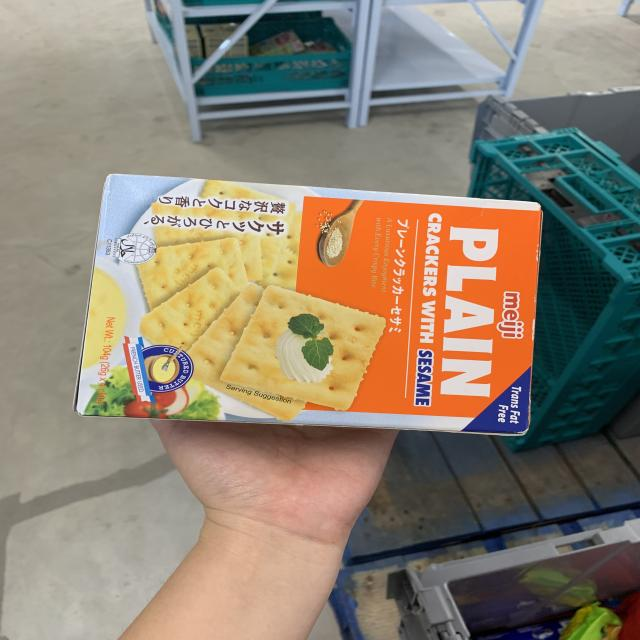object_name: (104, 183, 533, 432)
